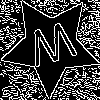W: (25, 20, 81, 77)
